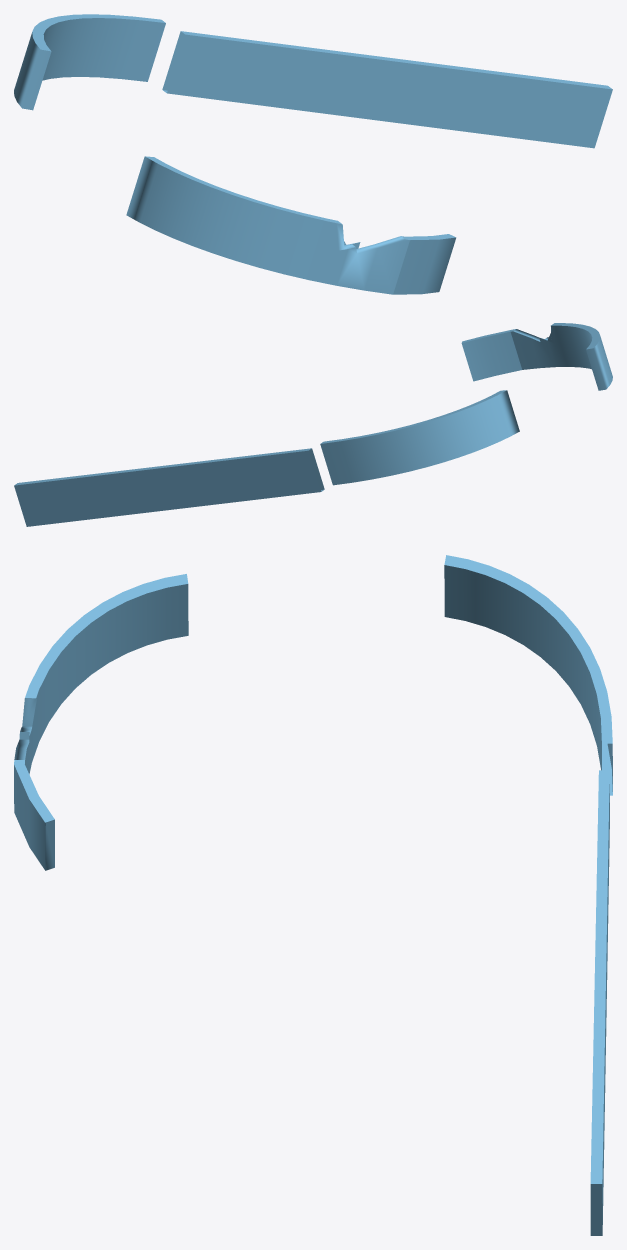
The model's file is PinBallramp.fbx.
3 views of the same model, one above another, from view 1: azimuth 30°, elevation 25°; view 2: azimuth 150°, elevation 25°; view 3: azimuth 270°, elevation 25° (orthographic). The views are drawn at different scales.
Visible parts, largest first — view 1: Cube.034, Cube.033, Cube.032; view 2: Cube.034, Cube.032, Cube.033; view 3: Cube.033, Cube.032, Cube.034.
Boxes of the visible parts, x1,y1,x2,y2 form: Cube.034: (162, 31, 612, 148); Cube.033: (126, 156, 456, 294); Cube.032: (14, 14, 165, 110); Cube.034: (14, 448, 324, 526); Cube.032: (320, 390, 519, 485); Cube.033: (461, 323, 612, 390); Cube.033: (14, 574, 188, 870); Cube.032: (444, 555, 612, 795); Cube.034: (590, 770, 609, 1235).
Bounding box in the file's own units: 954 × 407 × 654.
